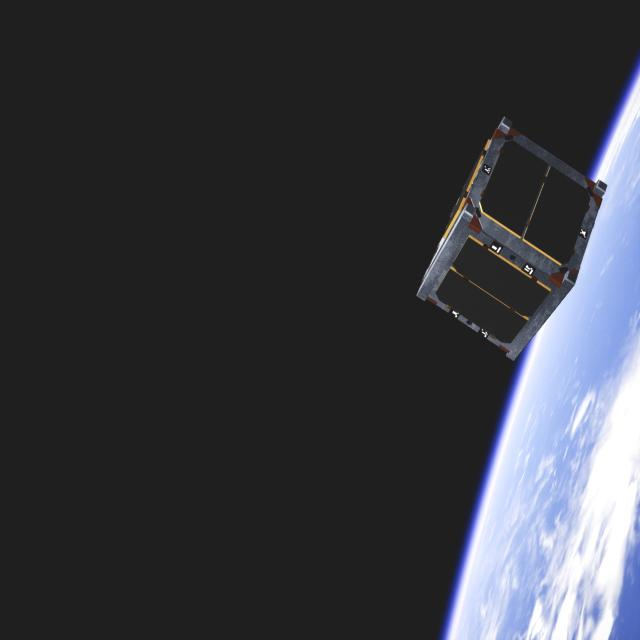satellite: (413, 117, 616, 369)
